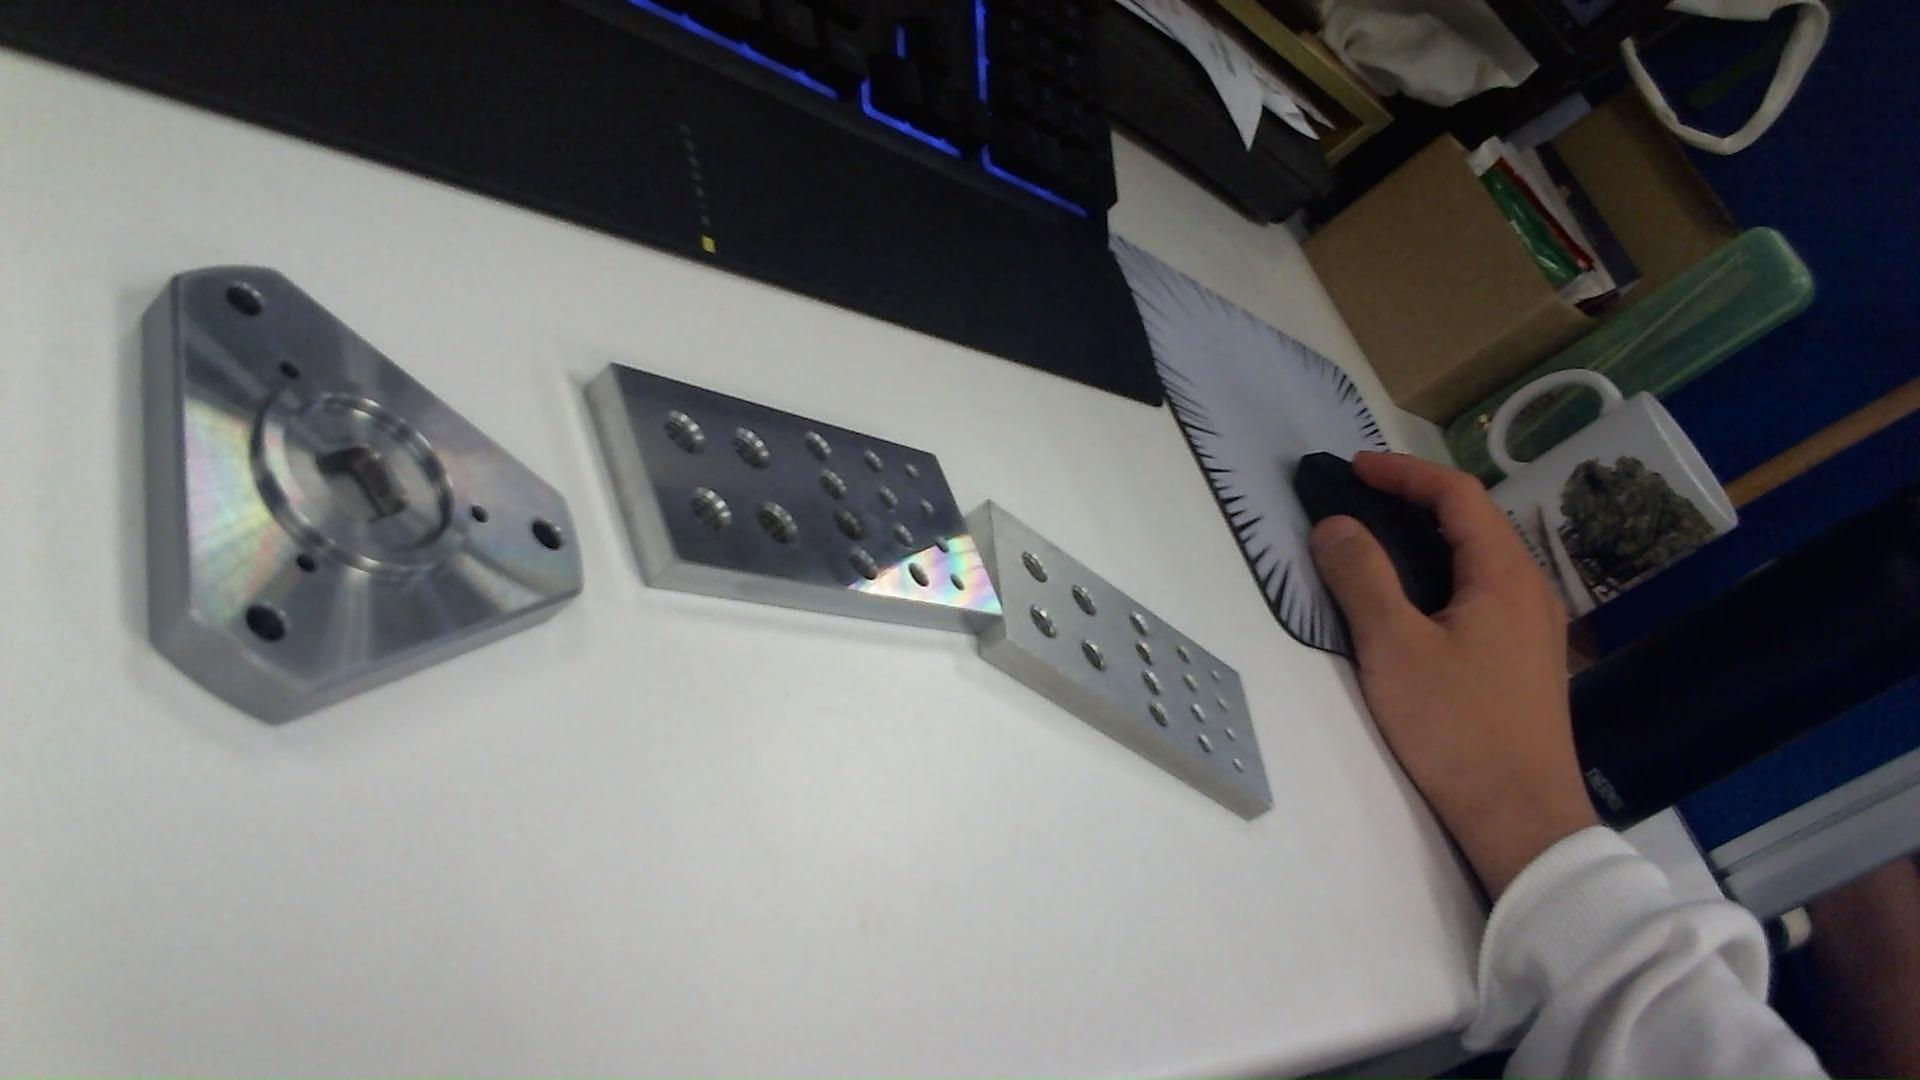hole: (236, 601, 290, 655), (753, 497, 803, 547), (687, 484, 732, 531), (727, 422, 774, 465), (661, 413, 703, 462), (222, 280, 265, 320), (833, 505, 870, 543), (529, 520, 568, 554), (1069, 582, 1100, 625), (814, 465, 851, 501), (844, 547, 877, 587), (1019, 543, 1051, 584), (800, 427, 836, 462), (1029, 607, 1060, 644), (1080, 641, 1108, 676), (906, 560, 934, 592), (891, 522, 919, 553), (861, 446, 889, 475), (874, 487, 905, 513), (1138, 669, 1164, 699), (1145, 704, 1170, 735), (1129, 611, 1153, 638), (1134, 640, 1155, 669), (294, 550, 319, 574), (467, 497, 485, 529), (278, 357, 301, 382), (1180, 675, 1204, 696), (1193, 732, 1215, 754), (945, 572, 965, 595), (918, 496, 936, 520), (1189, 703, 1208, 723), (903, 459, 920, 480), (1175, 645, 1192, 666), (932, 539, 952, 556), (1217, 692, 1228, 713), (1209, 667, 1222, 683), (1225, 725, 1236, 744), (1232, 756, 1245, 770)
